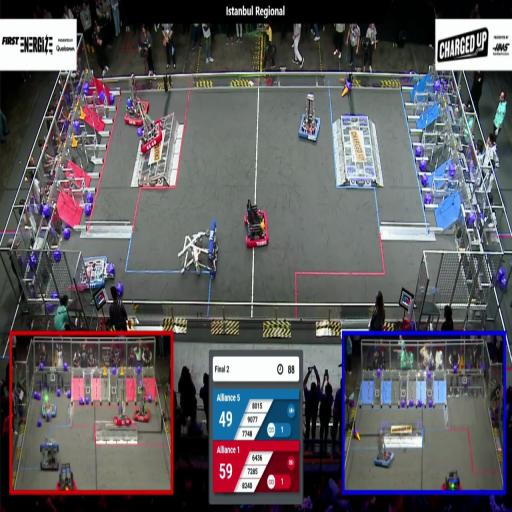robot: (178, 222, 221, 278), (74, 253, 116, 293), (134, 98, 164, 153), (122, 72, 151, 128), (244, 196, 270, 250), (297, 90, 322, 142), (37, 436, 62, 474), (372, 430, 396, 468), (112, 384, 132, 429), (134, 384, 152, 424), (438, 467, 462, 491), (40, 394, 58, 423)
